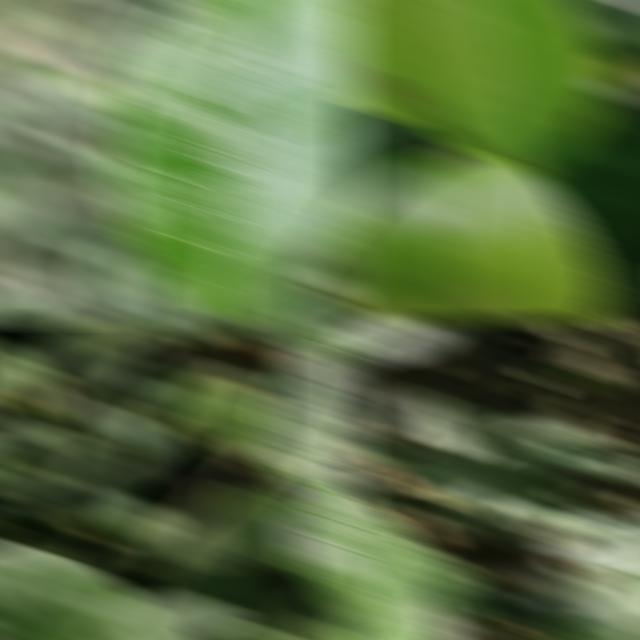Leaf: (103, 0, 362, 323), (342, 149, 613, 323), (262, 317, 362, 629), (442, 0, 609, 169), (342, 0, 505, 120), (533, 115, 640, 277), (0, 538, 148, 640), (381, 447, 587, 511), (162, 488, 302, 569), (402, 538, 505, 640), (342, 106, 432, 214), (146, 560, 266, 640), (465, 432, 640, 484), (53, 452, 153, 539), (183, 357, 273, 451), (89, 593, 240, 640), (444, 473, 524, 554), (397, 389, 486, 455), (2, 76, 78, 153), (543, 522, 640, 577), (342, 317, 456, 362), (530, 566, 607, 629), (0, 334, 60, 412), (579, 564, 640, 631), (137, 512, 205, 569), (114, 317, 267, 342)
